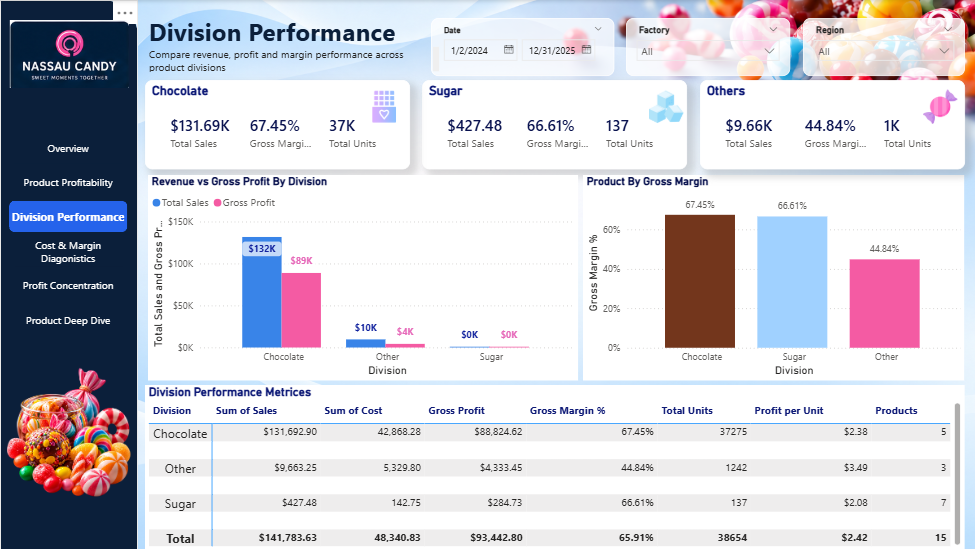

Layout of this report page (visuals, bound fields, positions):
{"tool":"powerbi","page":{"name":"Division Performance","canvas":[1280,720],"ordinal":2},"visuals":[{"type":"shape","box":[0,0,180,720],"z":0},{"type":"image","box":[7.2,25.9,165.6,89.3],"z":1000},{"type":"pageNavigator","box":[11.7,172.5,155.8,271.7],"z":2000},{"type":"image","box":[0,480,180,172],"z":3000},{"type":"textbox","box":[190.1,13,437.8,61.9],"z":4000},{"type":"textbox","box":[190.1,56.2,390.2,43.2],"z":5000},{"type":"slicer","fields":{"Values":["DimDate.Date"]},"box":[564.5,23,240.5,76.3],"z":6000},{"type":"slicer","fields":{"Values":["DimProduct.Factory"]},"box":[819.4,23,214.6,76.3],"z":7000},{"type":"cardVisual","title":"Sugar","fields":{"Data":["_Measures.Total Sales","_Measures.Gross Margin %","_Measures.Total Units"]},"box":[553,105.1,347,116.6],"z":8000},{"type":"slicer","fields":{"Values":["DimCustomer.Region"]},"box":[1051.2,23,211.7,76.3],"z":9000},{"type":"cardVisual","title":"Chocolate","fields":{"Data":["_Measures.Total Sales","_Measures.Gross Margin %","_Measures.Total Units"]},"box":[190.1,105.1,347,116.6],"z":10000},{"type":"image","box":[849.6,115.2,44.6,49],"z":11000},{"type":"lineClusteredColumnComboChart","title":"Revenue vs Gross Profit By Division","fields":{"Category":["DimProduct.Division"],"Y":["_Measures.Total Sales","_Measures.Gross Profit"]},"box":[193.2,229.5,563.3,269.2],"z":12000},{"type":"clusteredColumnChart","title":"Product By Gross Margin","fields":{"Category":["DimProduct.Division"],"Y":["_Measures.Gross Margin %"]},"box":[763.2,229.5,499.2,269.2],"z":13000},{"type":"image","box":[481,115.2,44.6,49],"z":14000},{"type":"cardVisual","title":"Others","fields":{"Data":["_Measures.Total Sales","_Measures.Gross Margin %","_Measures.Total Units"]},"box":[915.8,105.1,347,116.6],"z":15000},{"type":"image","box":[1208.2,115.2,44.6,49],"z":16000},{"type":"pivotTable","title":"Division Performance Metrices","fields":{"Rows":["DimProduct.Division"],"Values":["Sum(FactSales.Sales)","Sum(FactSales.Cost)","_Measures.Gross Profit","_Measures.Gross Margin %","_Measures.Total Units","_Measures.Profit per Unit","Count(FactSales.Product Name)"]},"box":[190.1,504,1072.8,216],"z":17000}]}

Visuals, with their boxes on the page's 1280x720 design canvas (x1, y1, x2, y2). These are canvas units, not pixel positions in the 975x549 screenshot, which may show the page scaled, cropped or inside an application window:
shape: Rect(0, 0, 180, 720)
image: Rect(7, 26, 173, 115)
pageNavigator: Rect(12, 172, 168, 444)
image: Rect(0, 480, 180, 652)
textbox: Rect(190, 13, 628, 75)
textbox: Rect(190, 56, 580, 99)
slicer - DimDate.Date: Rect(564, 23, 805, 99)
slicer - DimProduct.Factory: Rect(819, 23, 1034, 99)
"Sugar" cardVisual: Rect(553, 105, 900, 222)
slicer - DimCustomer.Region: Rect(1051, 23, 1263, 99)
"Chocolate" cardVisual: Rect(190, 105, 537, 222)
image: Rect(850, 115, 894, 164)
"Revenue vs Gross Profit By Division" lineClusteredColumnComboChart: Rect(193, 230, 756, 499)
"Product By Gross Margin" clusteredColumnChart: Rect(763, 230, 1262, 499)
image: Rect(481, 115, 526, 164)
"Others" cardVisual: Rect(916, 105, 1263, 222)
image: Rect(1208, 115, 1253, 164)
"Division Performance Metrices" pivotTable: Rect(190, 504, 1263, 720)
